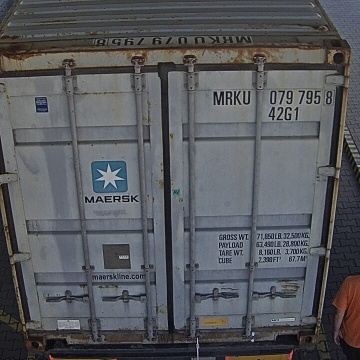serial_id: (213, 89, 334, 104)
